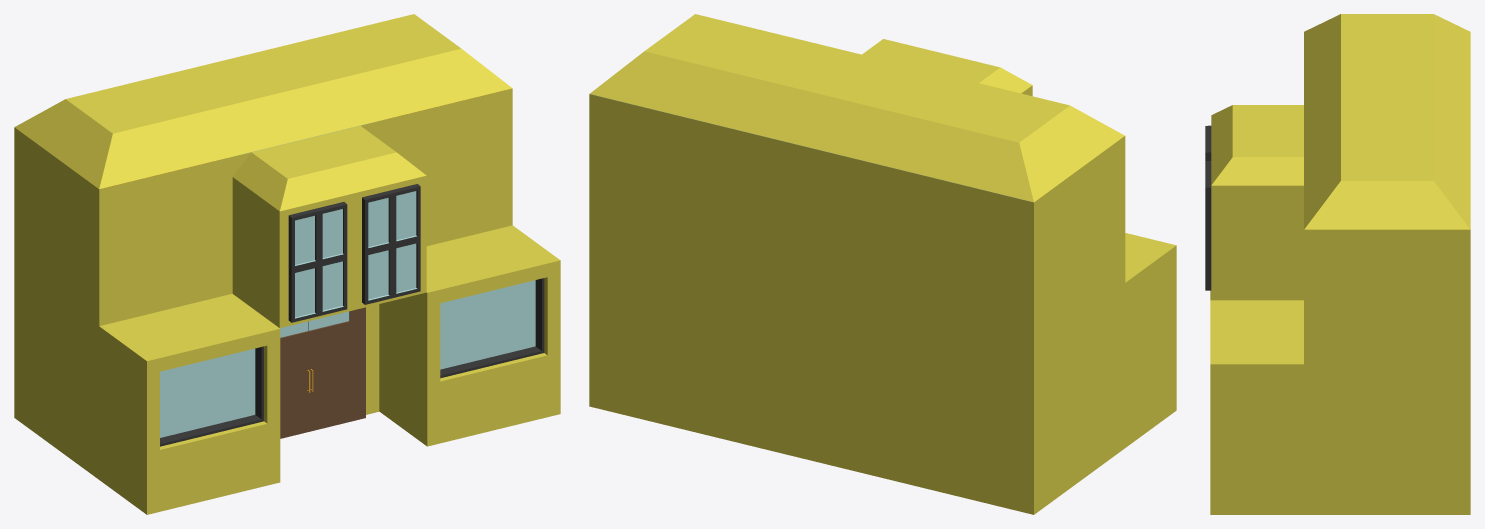
File: House Yella.fbx
The picture shows the model from 3 angles, left to right: view 1: azimuth 30°, elevation 25°; view 2: azimuth 150°, elevation 25°; view 3: azimuth 270°, elevation 25°; orthographic projection. The views are drawn at different scales.
Visible parts, largest first — view 1: Cube.003; view 2: Cube.003; view 3: Cube.003.
Part boxes in pixels (left/top/right/bottom): Cube.003: left=14, top=14, right=560, bottom=514; Cube.003: left=589, top=14, right=1176, bottom=514; Cube.003: left=1205, top=14, right=1470, bottom=514.
Bounding box in the file's own units: 2552 × 1915 × 1443.
